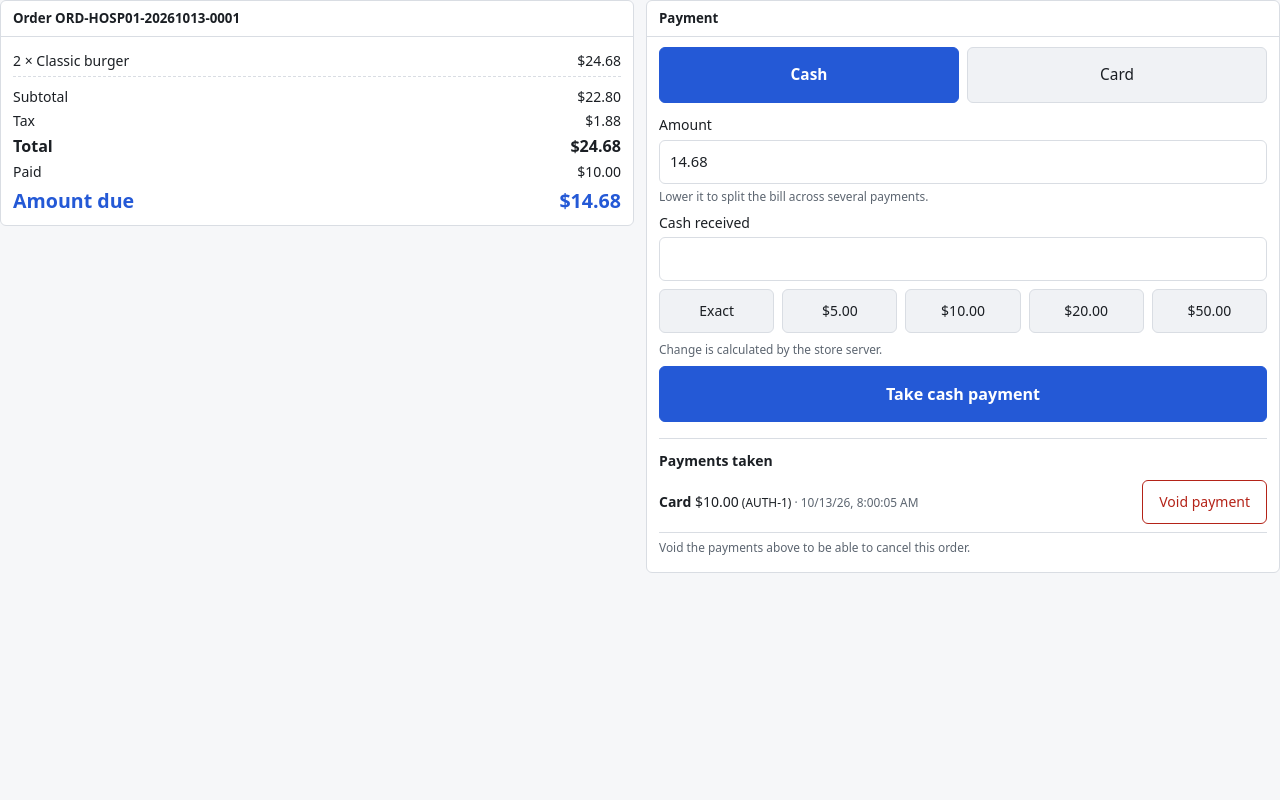
Test: POS › voids a payment of an abandoned split tender, after which the order can be cancelled
The width and height of the screenshot is (1280, 800).
Check: the text with test id "amount-due" reads "$14.68", box [559,187,621,214]
Check: the button "Cancel order" is not shown
Click the button with aria-label "Void payment $10.00".
click(1205, 502)  # box [1142,480,1267,524]
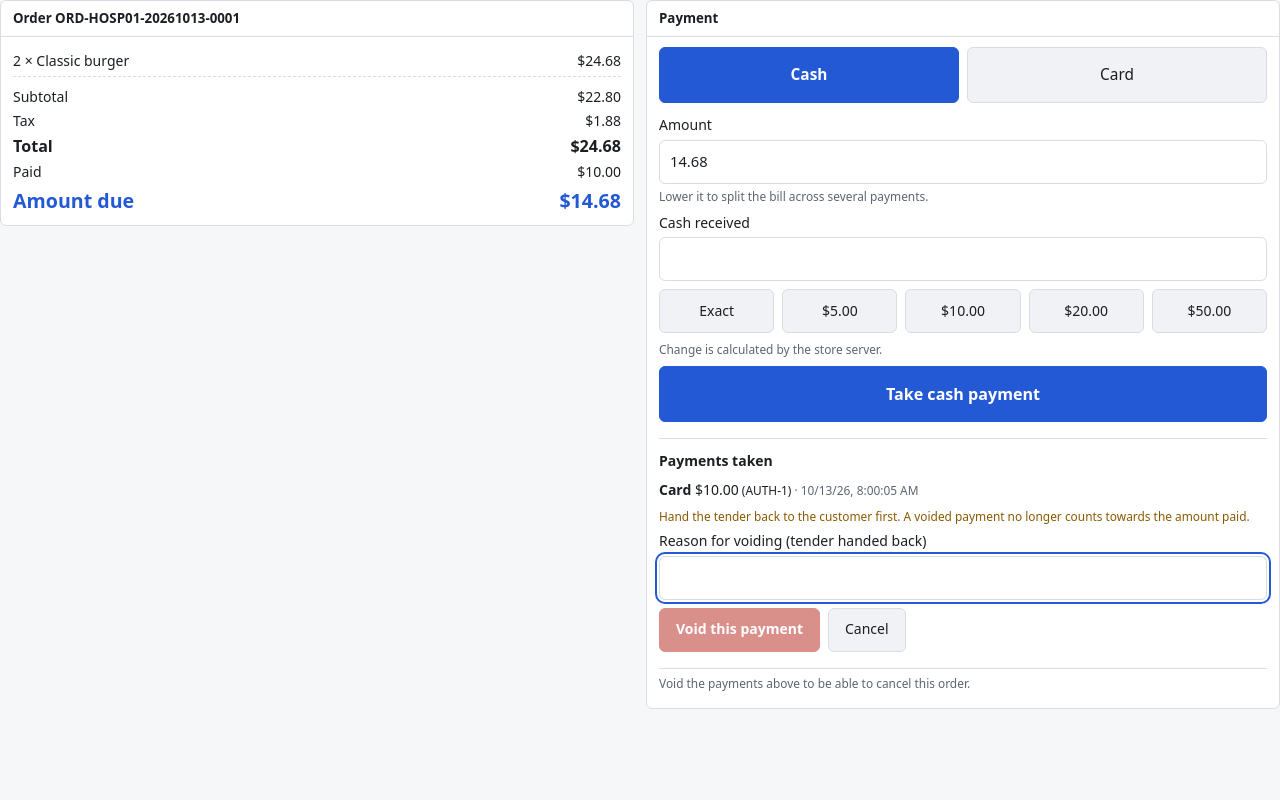
Type "Card refused" into the field labelled "Reason for voiding (tender handed back)".
click(963, 578); type("Card refused")  # box [659,556,1267,600]
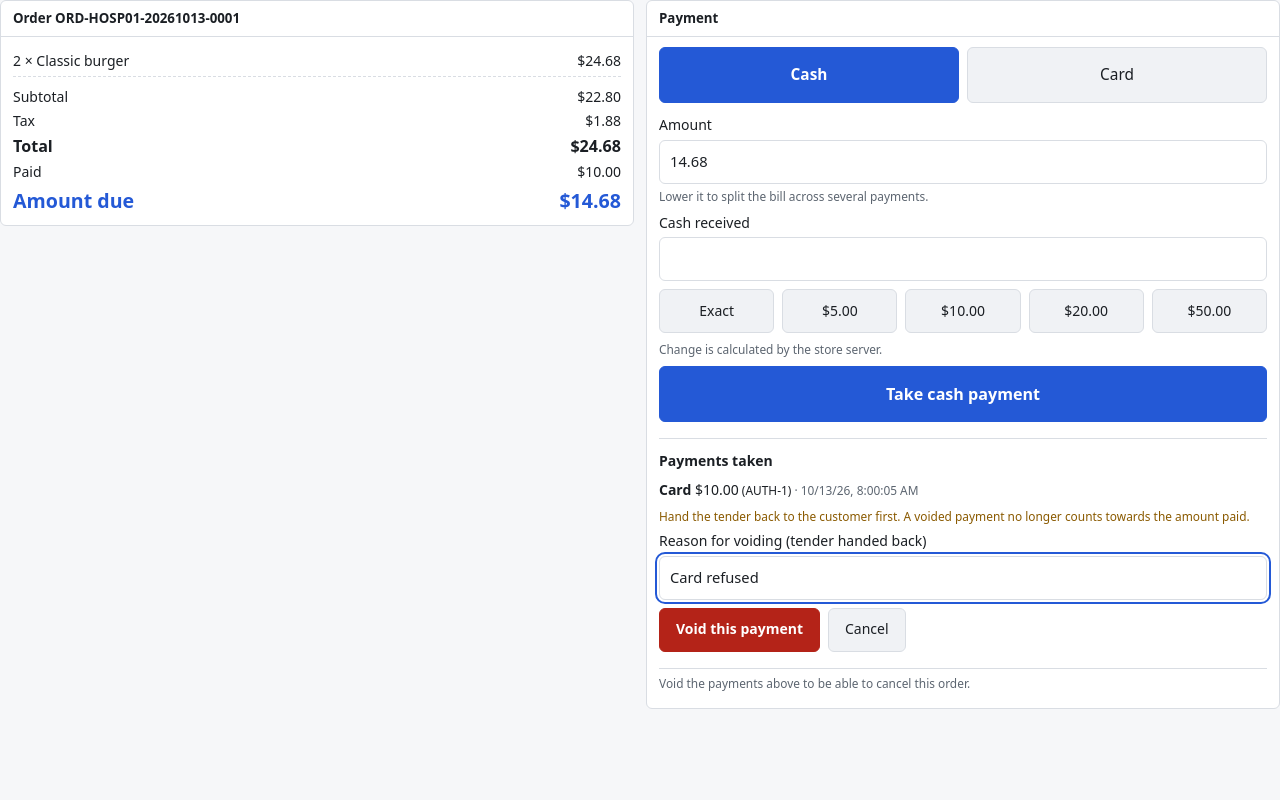
Click the button "Void this payment".
click(740, 630)  # box [659,608,820,652]
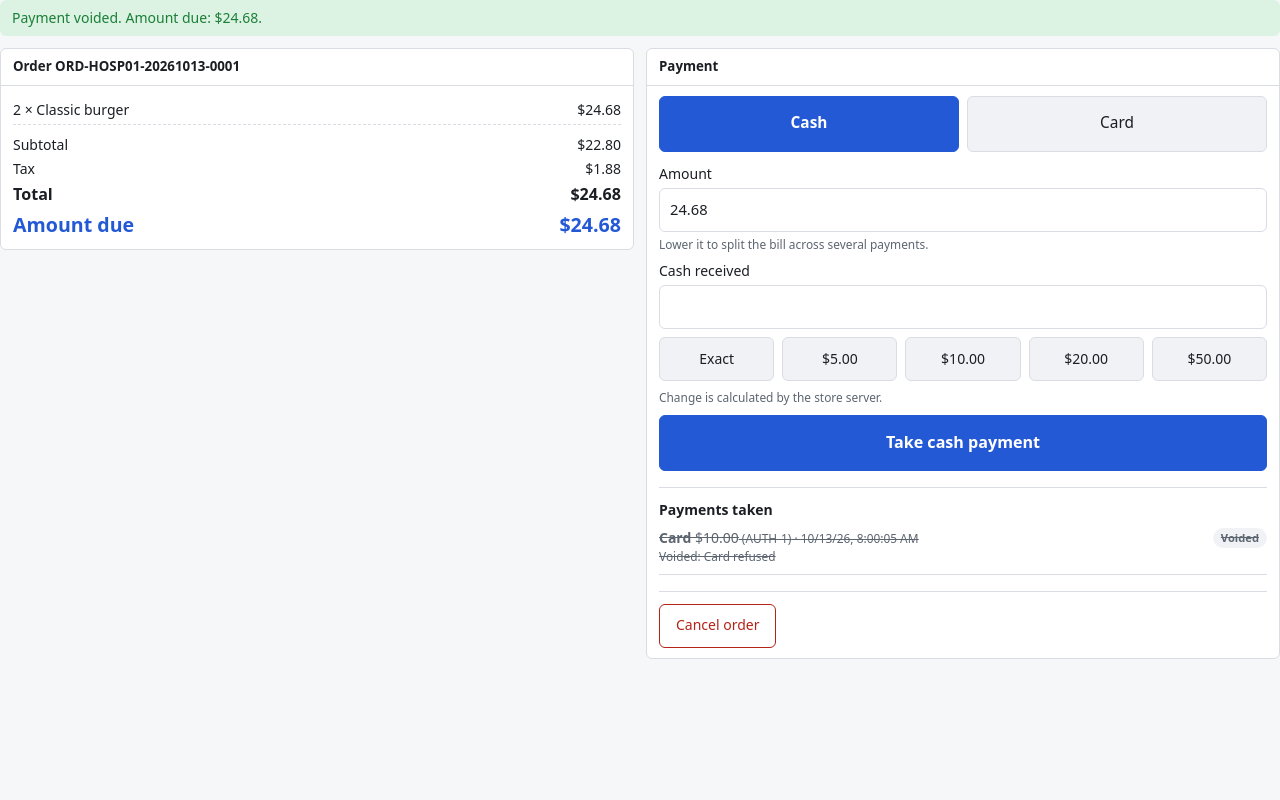
Check: the button "Cancel order" is enabled, box [659,604,776,648]
Check: the text "Payment voided. Amount due: $24.68." is shown, box [0,0,1279,36]
Check: the text with test id "amount-due" reads "$24.68", box [559,211,621,238]
